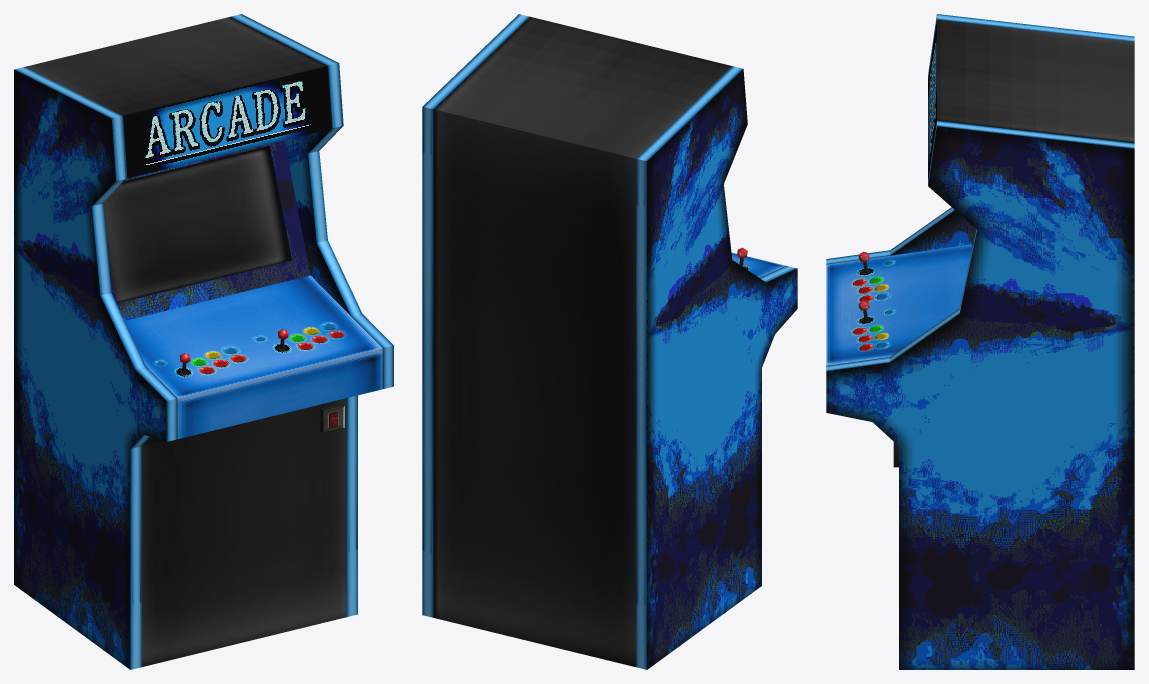
File: ArcadeMachine.glb
3 views of the same model, side by side, from view 1: azimuth 30°, elevation 25°; view 2: azimuth 150°, elevation 25°; view 3: azimuth 270°, elevation 25° (orthographic). The views are drawn at different scales.
Parts seen in each view (by area): view 1: ArcadeMachine, Screen; view 2: ArcadeMachine; view 3: ArcadeMachine.
Boxes of the visible parts, <box> form: ArcadeMachine: <box>14,14,393,669</box>; Screen: <box>103,146,287,302</box>; ArcadeMachine: <box>422,14,797,669</box>; ArcadeMachine: <box>826,14,1134,669</box>.
Bounding box in the file's own units: 0.8351 × 1.89 × 0.9684.
Materials: 2 (2 with a texture image).
